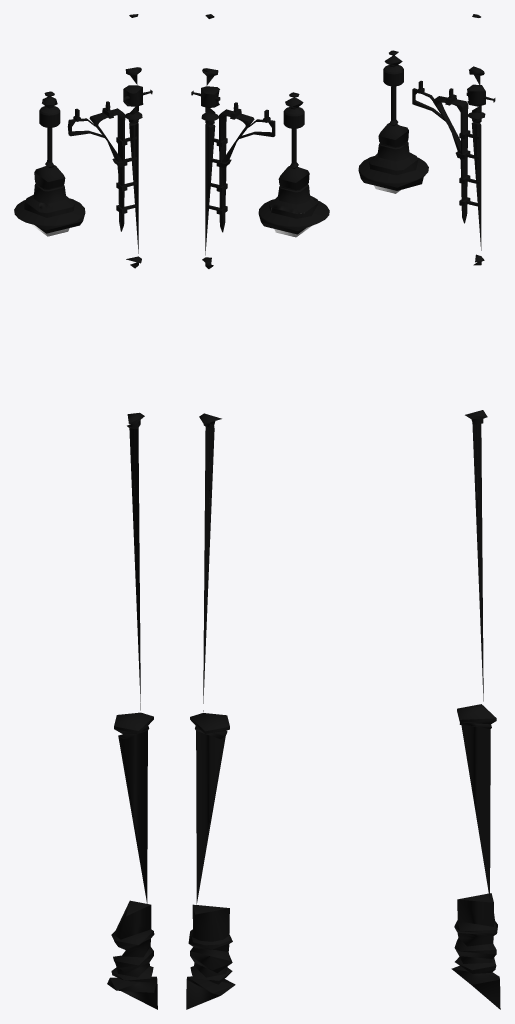
Rendered from p_lamp.glb.
3 renders of one model, left to right at view 1: azimuth 30°, elevation 25°; view 2: azimuth 150°, elevation 25°; view 3: azimuth 330°, elevation 25°, orthographic.
Parts seen in each view (by area): view 1: polySurface12; view 2: polySurface12; view 3: polySurface12.
Boxes of the visible parts, bbox=[...] form: polySurface12: bbox=[14, 14, 157, 1009]; polySurface12: bbox=[186, 14, 329, 1009]; polySurface12: bbox=[358, 14, 500, 1009].
Size of the model in its own units: 7.08 by 48.69 by 3.16.
Materials: 2 (1 with a texture image).
